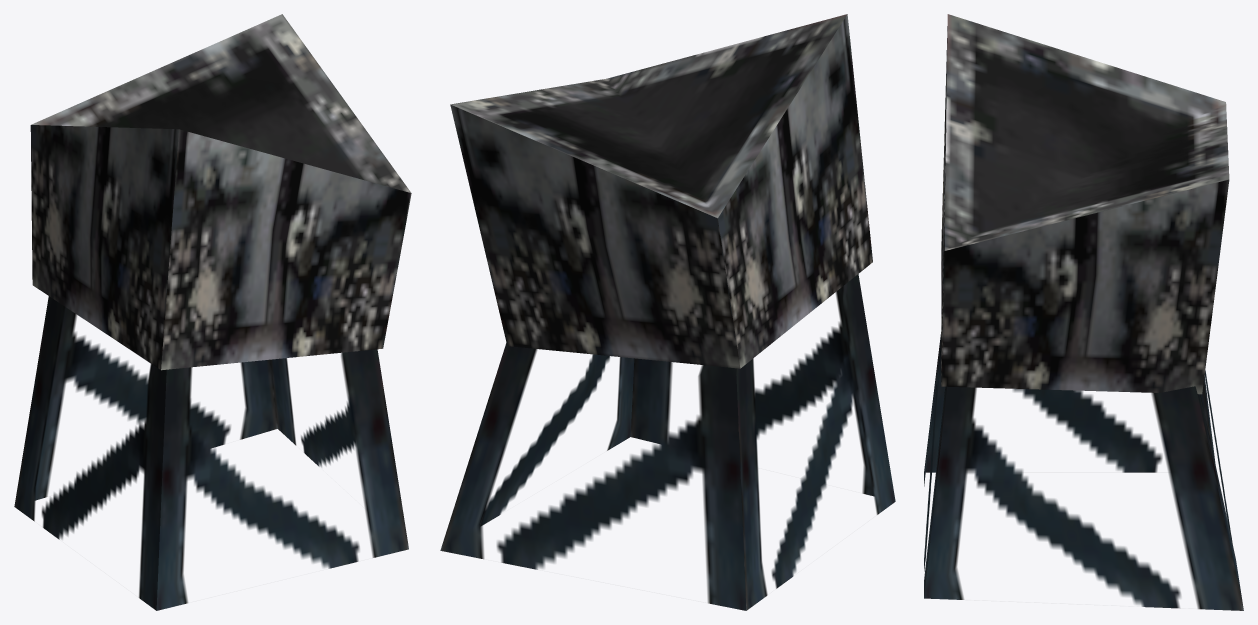
The model's file is Civilian - Infrastructure - Generic Bridge Tower - CBBIn01_R.glb.
3 views of the same model, side by side, from view 1: azimuth 30°, elevation 25°; view 2: azimuth 150°, elevation 25°; view 3: azimuth 270°, elevation 25° (orthographic). The views are drawn at different scales.
Visible parts, largest first — view 1: CBBIN01_R; view 2: CBBIN01_R; view 3: CBBIN01_R.
Boxes of the visible parts, x1,y1,x2,y2 form: CBBIN01_R: (14,14,411,610); CBBIN01_R: (440,14,895,610); CBBIN01_R: (924,14,1243,610).
Bounding box in the file's own units: 12.19 × 19.52 × 11.9.
1 material, 1 textured.
